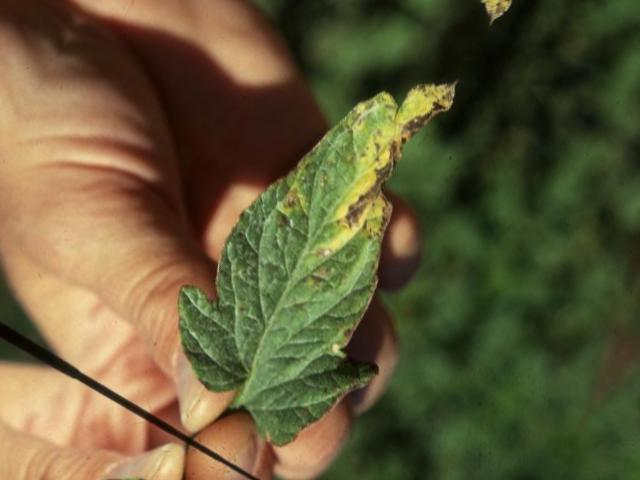Tomato leaf bacterial spot: (126, 5, 532, 480)
